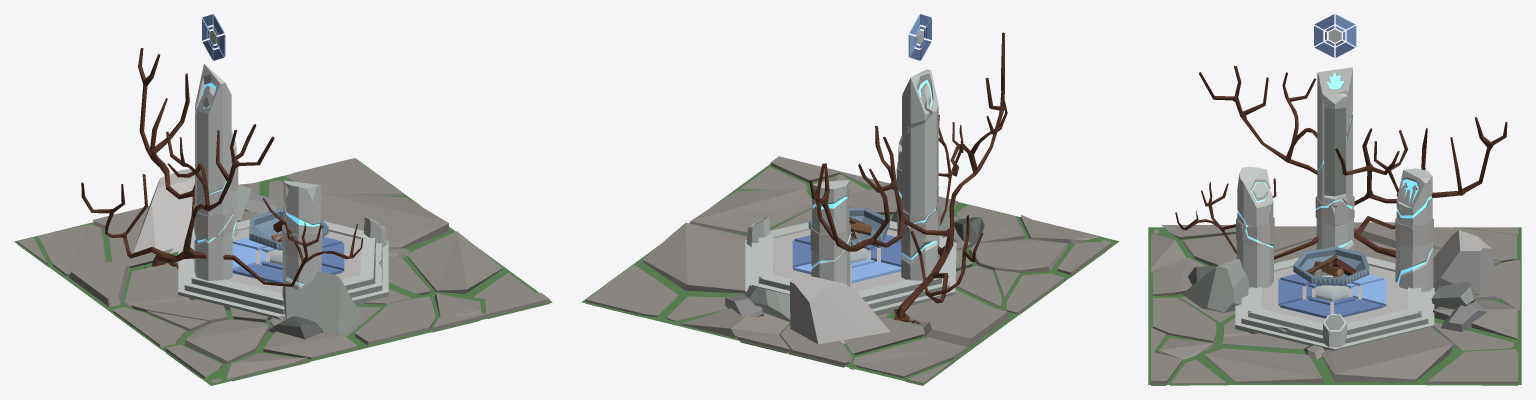
The picture shows the model from 3 angles, left to right: view 1: azimuth 30°, elevation 25°; view 2: azimuth 150°, elevation 25°; view 3: azimuth 270°, elevation 25°; orthographic projection. The views are drawn at different scales.
Parts seen in each view (by area): view 1: Cube.001_cell.001, Cylinder, Cylinder.001, BigTree.006, Plane, Icosphere_cell.024, Icosphere_cell.026, Coin.001, Sphere, Coin.021, Icosphere_cell.035, Icosphere_cell.015 (+1 smaller); view 2: Cube.001_cell.001, Cylinder, BigTree.006, Cylinder.001, Plane, Icosphere_cell.026, Coin.001, Icosphere_cell.021, Coin.021, Sphere, Icosphere_cell.015, Icosphere_cell.035 (+1 smaller); view 3: Cube.001_cell.001, Cylinder, Cylinder.001, BigTree.006, Plane, Coin.001, Icosphere_cell.026, Icosphere_cell.024, Sphere, Coin.021, Icosphere_cell.021, Icosphere_cell.015 (+1 smaller).
Boxes of the visible parts, x1,y1,x2,y2 form: Cube.001_cell.001: (17, 158, 549, 382); Cylinder: (193, 64, 322, 289); Cylinder.001: (178, 219, 388, 319); BigTree.006: (81, 48, 363, 286); Plane: (14, 158, 552, 385); Icosphere_cell.024: (282, 271, 361, 334); Icosphere_cell.026: (133, 169, 194, 253); Coin.001: (232, 237, 344, 283); Sphere: (249, 209, 328, 250); Coin.021: (202, 14, 225, 60); Icosphere_cell.035: (268, 316, 323, 339); Icosphere_cell.015: (244, 192, 276, 215); Cube.001_cell.001: (586, 156, 1111, 385); Cylinder: (810, 69, 940, 286); BigTree.006: (809, 32, 1007, 323); Cylinder.001: (745, 220, 956, 315); Plane: (581, 164, 1119, 385); Icosphere_cell.026: (790, 274, 890, 344); Coin.001: (792, 234, 902, 283); Icosphere_cell.021: (745, 285, 790, 321); Coin.021: (908, 14, 931, 60); Sphere: (808, 207, 889, 246); Icosphere_cell.015: (725, 294, 763, 317); Icosphere_cell.035: (954, 217, 984, 247); Cube.001_cell.001: (1151, 222, 1520, 385); Cylinder: (1236, 67, 1433, 291); Cylinder.001: (1235, 256, 1434, 350); BigTree.006: (1175, 66, 1507, 259); Plane: (1148, 227, 1521, 384); Coin.001: (1278, 273, 1386, 318); Icosphere_cell.026: (1433, 230, 1496, 295); Icosphere_cell.024: (1182, 259, 1249, 312); Sphere: (1293, 246, 1369, 285); Coin.021: (1314, 14, 1356, 57); Icosphere_cell.021: (1431, 281, 1475, 309); Icosphere_cell.015: (1441, 301, 1487, 331).
Size of the model in its own units: 10 by 8.07 by 10.
Materials: 4 (2 with a texture image).
